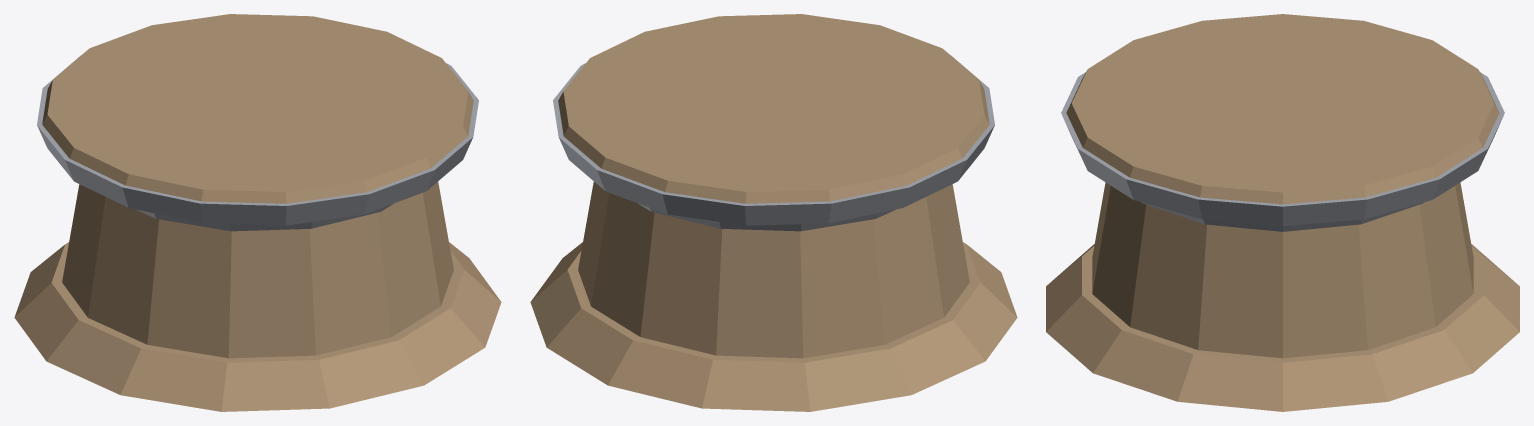
The model's file is dragons-and-wyverns-display-plinth-976b9e19__36753.glb.
3 renders of one model, left to right at view 1: azimuth 30°, elevation 25°; view 2: azimuth 150°, elevation 25°; view 3: azimuth 270°, elevation 25°, orthographic.
Parts seen in each view (by area): view 1: display-plinth, turntable (×2); view 2: display-plinth, turntable (×2); view 3: display-plinth, turntable (×2).
Part boxes in pixels (x1=…): display-plinth: x1=14, y1=181, x2=501, y2=411; turntable (×2): x1=37, y1=14, x2=478, y2=225; display-plinth: x1=530, y1=181, x2=1017, y2=411; turntable (×2): x1=553, y1=14, x2=994, y2=225; display-plinth: x1=1046, y1=182, x2=1519, y2=411; turntable (×2): x1=1061, y1=14, x2=1504, y2=225.
Bounding box in the file's own units: 1.84 × 0.86 × 1.79.
